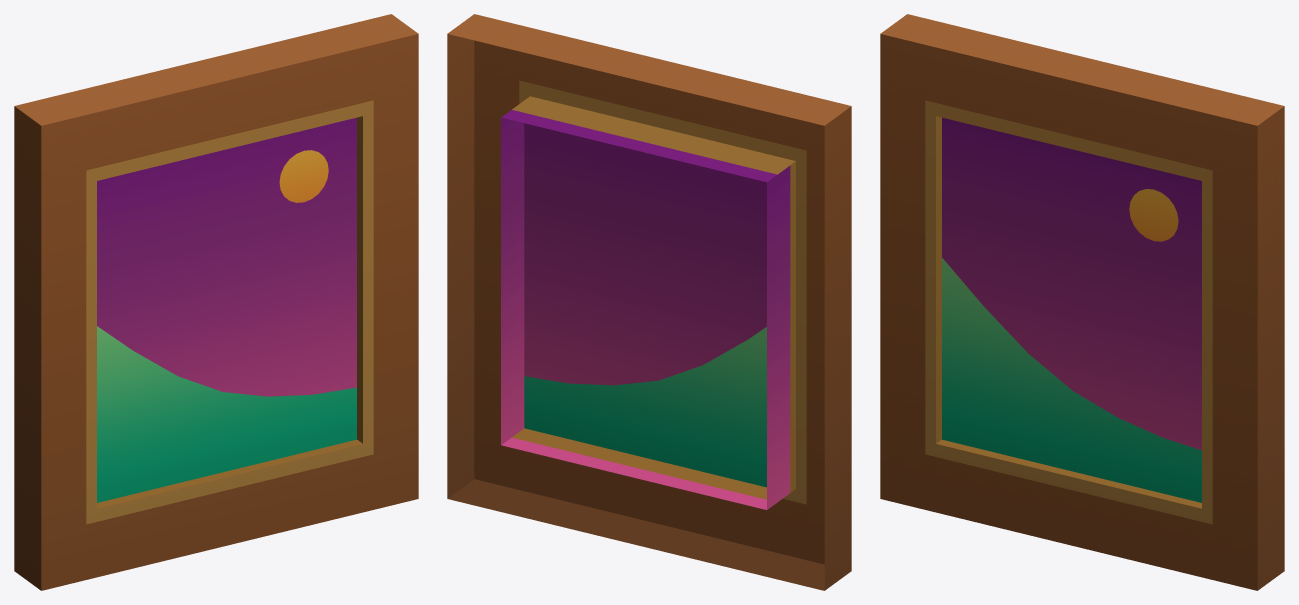
Rendered from PaintingB.FBX.
The picture shows the model from 3 angles, left to right: view 1: azimuth 30°, elevation 25°; view 2: azimuth 150°, elevation 25°; view 3: azimuth 330°, elevation 25°; orthographic projection.
Parts seen in each view (by area): view 1: Painting02; view 2: Painting02; view 3: Painting02.
Part boxes in pixels (<box>): Painting02: <box>14,14,418,590</box>; Painting02: <box>447,14,851,590</box>; Painting02: <box>880,14,1284,590</box>.
Size of the model in its own units: 0.733 by 0.8635 by 0.0975.
